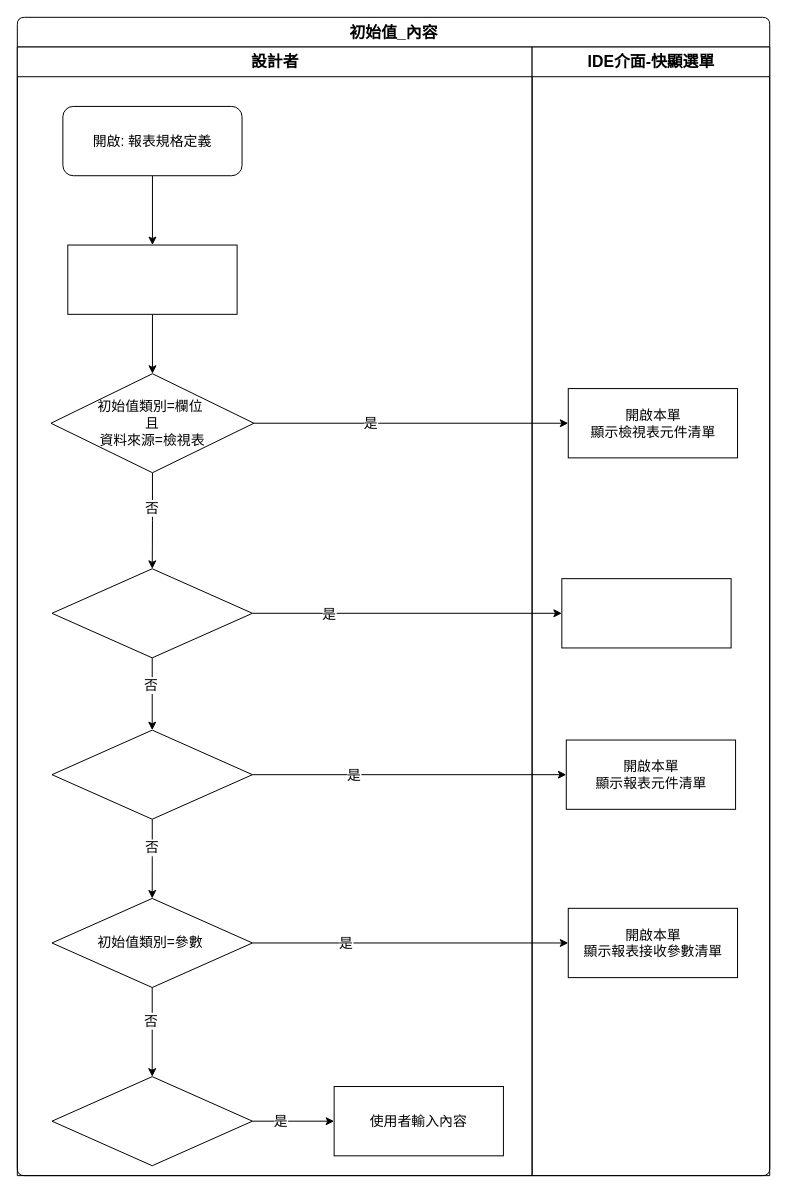
This 787x1193 diagram has some shape labels left out. The shapes that lost their labels are listed below. From the top down, each one's box as (x1, y1, x2, y2) in pixels, then its label:
(67, 244, 237, 314): 執行初始值_內容按鈕
(51, 568, 252, 658): 初始值類別=欄位 且 資料來源=資料表
(561, 578, 731, 648): 開啟本單 顯示資料表元件清單
(51, 729, 252, 819): 初始值類別=元件
(51, 1076, 252, 1166): 初始值類別=自定
